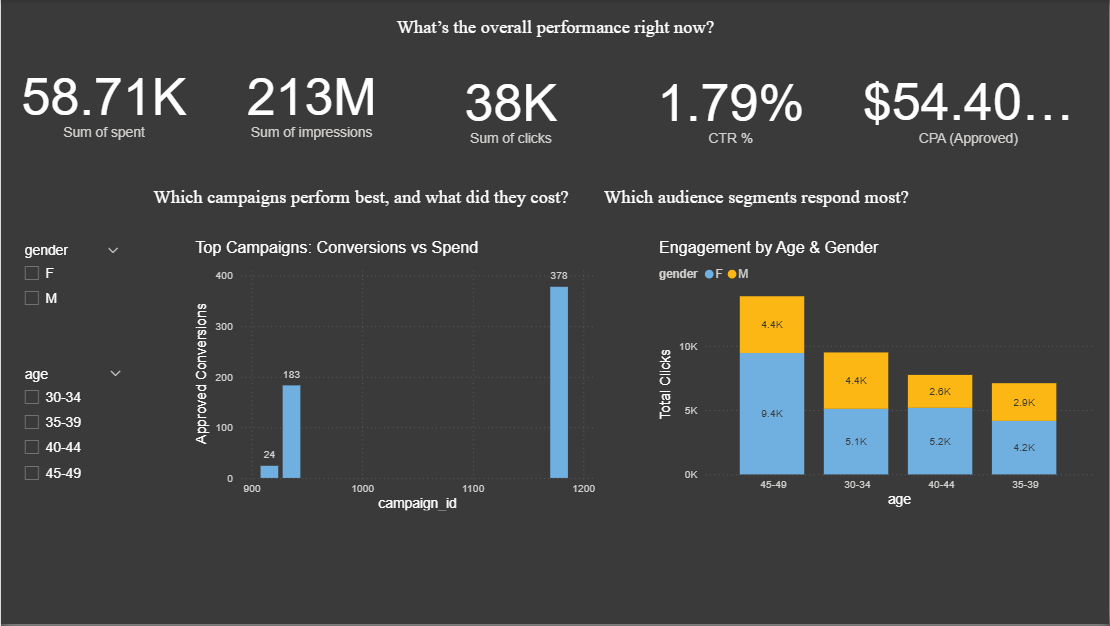

The page's visual inventory and layout, read from the dashboard file:
{"tool":"powerbi","page":{"name":"Page 1","canvas":[1280,720],"ordinal":0},"visuals":[{"type":"textbox","box":[0,15.1,1280.3,48],"z":0},{"type":"card","fields":{"Values":["Sum(data.spent)"]},"box":[0,56.3,238.2,118.4],"z":1000},{"type":"card","fields":{"Values":["Sum(data.impressions)"]},"box":[238.8,56.3,241.5,119.4],"z":2000},{"type":"card","fields":{"Values":["Sum(data.clicks)"]},"box":[470.5,65,236.7,115.5],"z":3000},{"type":"card","fields":{"Values":["data.CTR %"]},"box":[723.1,65,239.6,115.5],"z":4000},{"type":"card","fields":{"Values":["data.CPA (Approved)"]},"box":[985.8,65,262.7,114],"z":5000},{"type":"textbox","box":[158.8,210.7,513.8,39],"z":6000},{"type":"clusteredColumnChart","title":"Top Campaigns: Conversions vs Spend","fields":{"Category":["data.campaign_id"],"Y":["data.Approved Conversions"]},"box":[219.4,275.7,472,319],"z":7000},{"type":"textbox","box":[691.4,210.7,588.9,39],"z":8000},{"type":"columnChart","title":"Engagement by Age & Gender","fields":{"Category":["data.age"],"Series":["data.gender"],"Y":["data.Total Clicks"]},"box":[754.9,275.7,511,314.7],"z":9000},{"type":"slicer","fields":{"Values":["data.gender"]},"box":[14.4,275.7,134.2,128.5],"z":9001},{"type":"slicer","fields":{"Values":["data.age"]},"box":[14.4,418.6,137.1,171.8],"z":9002}]}

Visuals, with their boxes in screenshot pixels (x1, y1, x2, y2), scaled from the page's 1280x720 canvas onto the 1110x626 screenshot:
textbox: crop(0, 13, 1109, 55)
card - Sum(data.spent): crop(0, 49, 207, 152)
card - Sum(data.impressions): crop(207, 49, 417, 153)
card - Sum(data.clicks): crop(408, 57, 613, 157)
card - data.CTR %: crop(627, 57, 835, 157)
card - data.CPA (Approved): crop(855, 57, 1083, 156)
textbox: crop(138, 183, 583, 217)
"Top Campaigns: Conversions vs Spend" clusteredColumnChart: crop(190, 240, 600, 517)
textbox: crop(600, 183, 1109, 217)
"Engagement by Age & Gender" columnChart: crop(655, 240, 1098, 513)
slicer - data.gender: crop(12, 240, 129, 351)
slicer - data.age: crop(12, 364, 131, 513)
